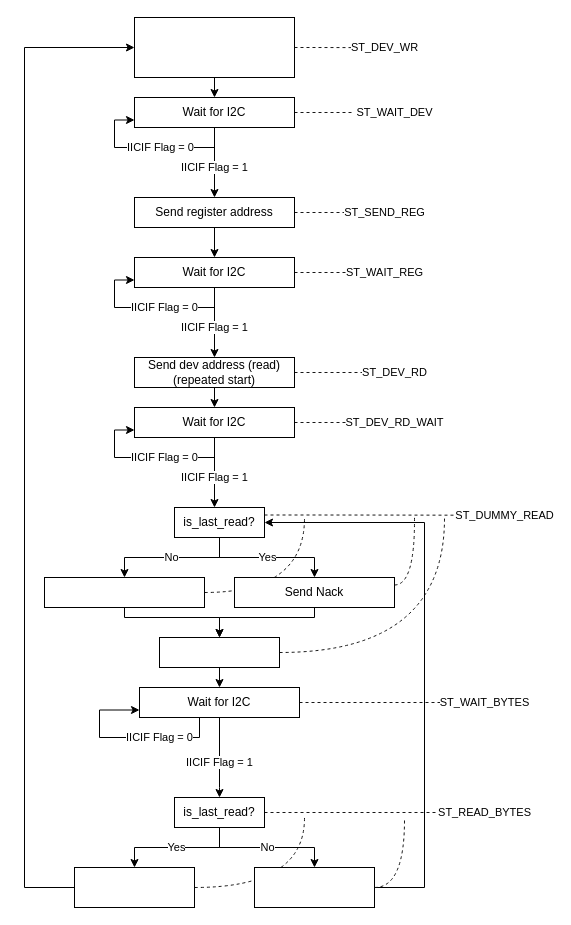
The diagram is 571 pixels wide and 925 high, and some of its shapes have lost their labels. The box of each missing label's shape, as (x1, y1, x2, y2) in pixels:
Dummy read: (158, 636, 280, 668)
Read data: (254, 866, 374, 908)
Send Ack: (44, 576, 204, 608)
Send stop signal Read data: (74, 866, 194, 908)
Set to transmit mode Send start condition Send dev address (write): (134, 16, 294, 78)
